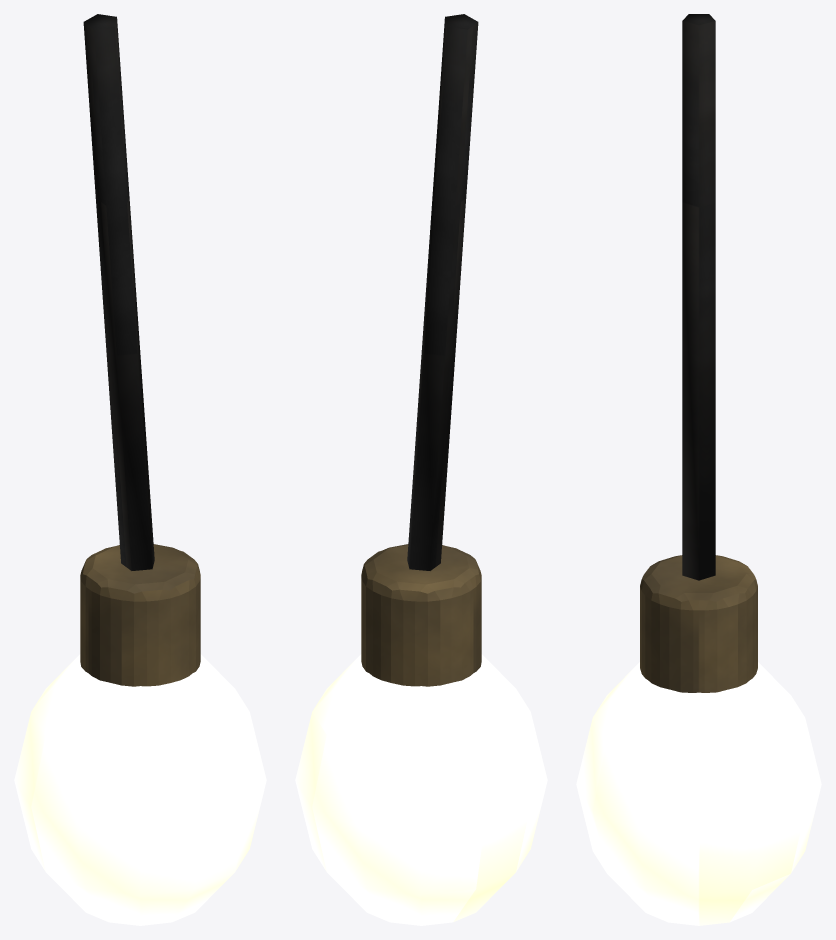
Rendered from U05_bare_bulb_wire_v1.glb.
3 views of the same model, side by side, from view 1: azimuth 30°, elevation 25°; view 2: azimuth 150°, elevation 25°; view 3: azimuth 270°, elevation 25° (orthographic). The views are drawn at different scales.
Visible parts, largest first — view 1: U05_bare_bulb_wire_v1; view 2: U05_bare_bulb_wire_v1; view 3: U05_bare_bulb_wire_v1.
Part boxes in pixels (x1,y1,x2,y2): U05_bare_bulb_wire_v1: (14,14,266,925); U05_bare_bulb_wire_v1: (295,14,547,925); U05_bare_bulb_wire_v1: (576,14,821,925).
Bounding box in the file's own units: 0.0505 × 0.2 × 0.0505.
Materials: 3 (3 with a texture image).
